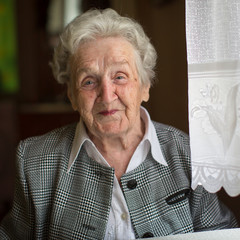young: (51, 11, 166, 141)
